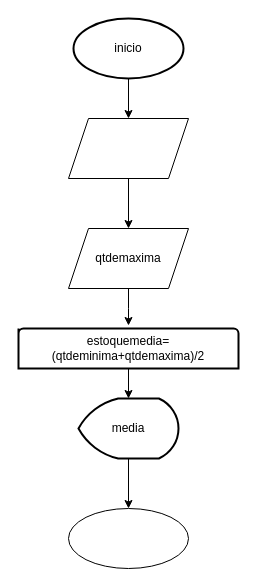
The diagram is 256 pixels wide and 586 high, and some of its shapes have lost their labels. Here are the shapes that lost their labels. From the top down, the centre of each, then its label:
At (128,148): "qtdeminima".
At (128,538): "fim".
